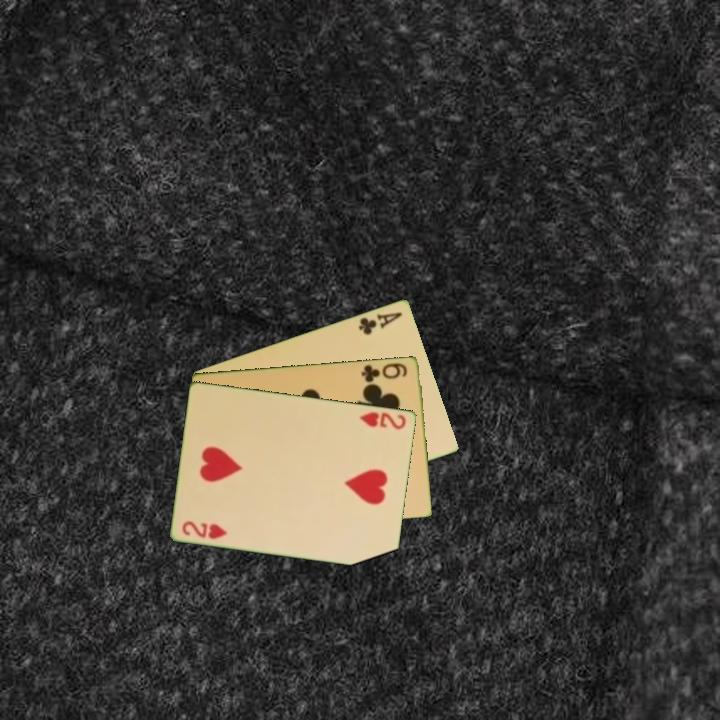2h: (179, 517, 230, 542), (356, 408, 409, 432)
6c: (358, 359, 410, 385)
Ac: (355, 308, 405, 337)
